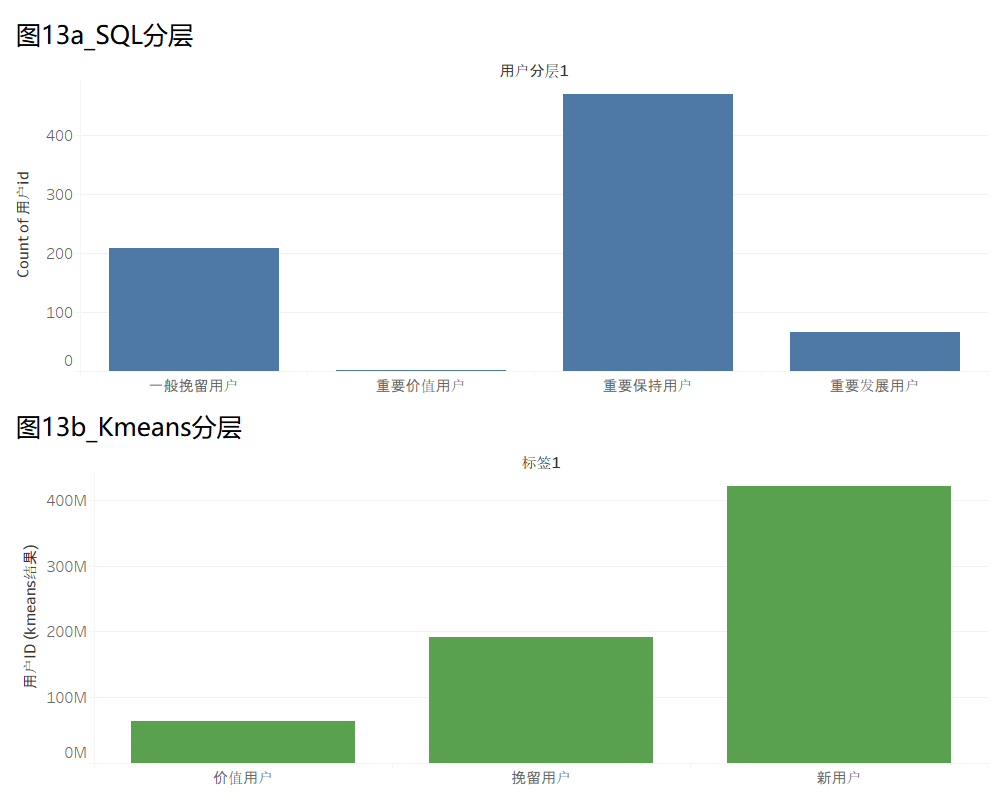

The page's visual inventory and layout, read from the dashboard file:
{"tool":"tableau","page":{"name":"仪表板 2","canvas":[1000,800],"ordinal":1},"visuals":[{"type":"worksheet","title":"rfm分","mark":"Automatic","rows":["用户ID"],"cols":["用户分层"],"box":[8,8,984,392]},{"type":"worksheet","title":"kmeans结果","mark":"Automatic","rows":["用户ID (kmeans结果)"],"cols":["标签"],"box":[8,400,984,392]}]}

Visuals, with their boxes in screenshot pixels (x1, y1, x2, y2), scaled from the page's 1000x800 canvas onto the 1000x800 screenshot:
"rfm分" worksheet: x1=8 y1=8 x2=992 y2=400
"kmeans结果" worksheet: x1=8 y1=400 x2=992 y2=792
